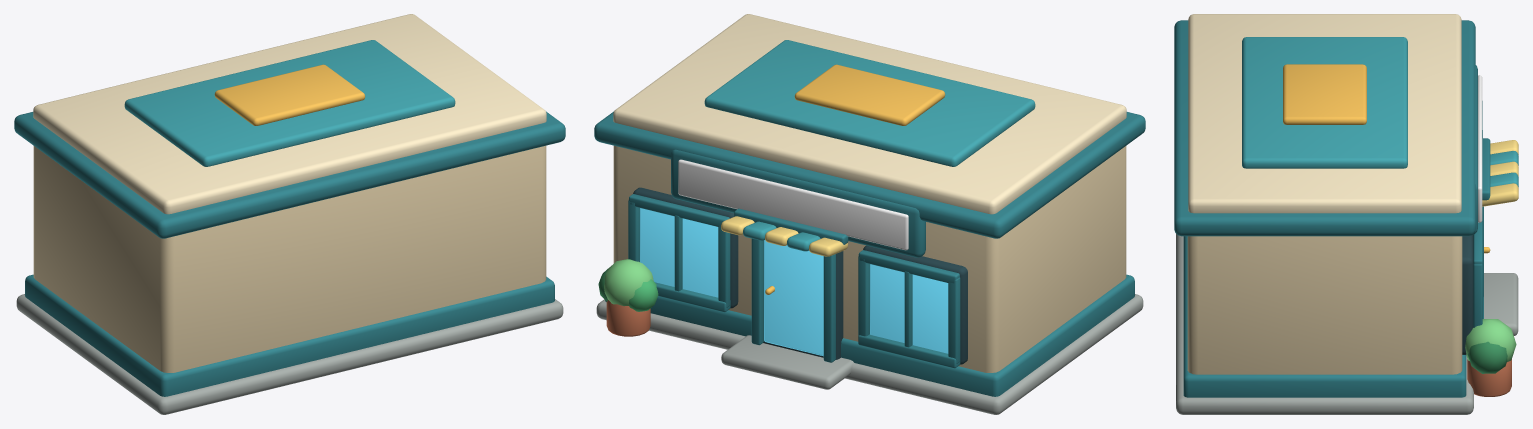
File: startup-building-level-1.glb
3 renders of one model, left to right at view 1: azimuth 30°, elevation 25°; view 2: azimuth 150°, elevation 25°; view 3: azimuth 270°, elevation 25°, orthographic.
Parts seen in each view (by area): view 1: main one-floor building, flat upgrade roof, roof upgrade socket, roof shadow tier, lower teal plinth, foundation, roof gold cap; view 2: flat upgrade roof, main one-floor building, roof upgrade socket, roof shadow tier, lower teal plinth, Billboard Dynamic Face, foundation, glass entrance door, roof gold cap, storefront glass, storefront glass.001, integrated billboard frame (+21 smaller); view 3: main one-floor building, flat upgrade roof, roof upgrade socket, roof shadow tier, lower teal plinth, foundation, roof gold cap, front entrance step, deep window recess.001, starter planter foliage, single starter planter, starter planter foliage.002 (+10 smaller).
Boxes of the visible parts, x1=… form: main one-floor building: x1=33, y1=145, x2=546, y2=372; flat upgrade roof: x1=33, y1=14, x2=546, y2=214; roof upgrade socket: x1=124, y1=40, x2=455, y2=166; roof shadow tier: x1=14, y1=111, x2=565, y2=238; lower teal plinth: x1=25, y1=274, x2=554, y2=396; foundation: x1=16, y1=294, x2=563, y2=414; roof gold cap: x1=214, y1=64, x2=365, y2=125; flat upgrade roof: x1=613, y1=14, x2=1126, y2=214; main one-floor building: x1=613, y1=145, x2=1126, y2=372; roof upgrade socket: x1=704, y1=40, x2=1035, y2=166; roof shadow tier: x1=594, y1=111, x2=1145, y2=238; lower teal plinth: x1=605, y1=274, x2=1134, y2=396; Billboard Dynamic Face: x1=678, y1=159, x2=908, y2=250; foundation: x1=596, y1=294, x2=1143, y2=414; glass entrance door: x1=764, y1=240, x2=823, y2=356; roof gold cap: x1=794, y1=64, x2=945, y2=125; storefront glass: x1=870, y1=264, x2=948, y2=353; storefront glass.001: x1=640, y1=208, x2=718, y2=297; integrated billboard frame: x1=671, y1=149, x2=925, y2=257; main one-floor building: x1=1187, y1=236, x2=1462, y2=374; flat upgrade roof: x1=1188, y1=14, x2=1461, y2=213; roof upgrade socket: x1=1242, y1=37, x2=1407, y2=168; roof shadow tier: x1=1174, y1=20, x2=1475, y2=236; lower teal plinth: x1=1183, y1=236, x2=1466, y2=397; foundation: x1=1176, y1=234, x2=1473, y2=414; roof gold cap: x1=1283, y1=64, x2=1366, y2=124; front entrance step: x1=1484, y1=273, x2=1518, y2=335; deep window recess.001: x1=1462, y1=235, x2=1473, y2=354; starter planter foliage: x1=1465, y1=319, x2=1516, y2=361; single starter planter: x1=1467, y1=359, x2=1511, y2=396; starter planter foliage.002: x1=1467, y1=341, x2=1507, y2=373.
Bounding box in the file's own units: 8.16 × 4.28 × 5.9.
